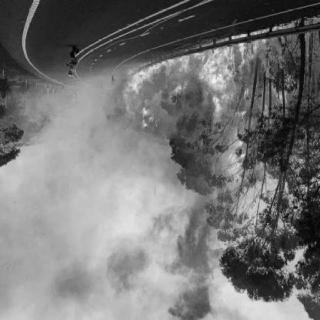Fire: (120, 26, 287, 256)
Smoke: (14, 96, 216, 312)
